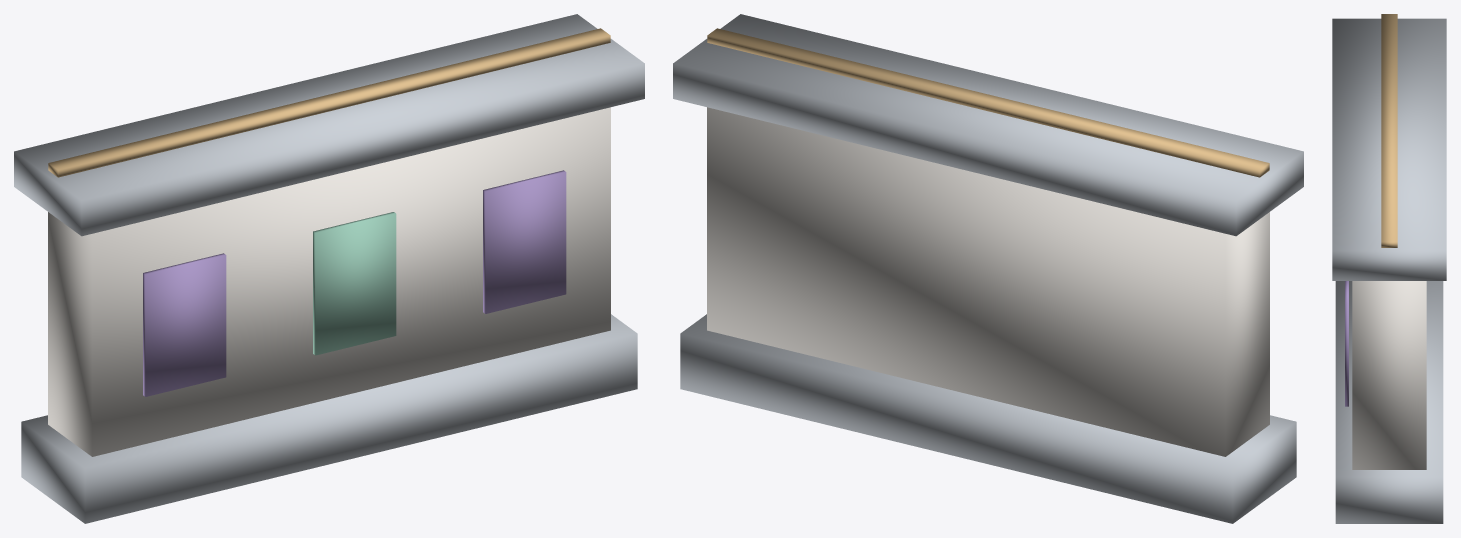
Rendered from arc_wall_straight.glb.
The picture shows the model from 3 angles, left to right: view 1: azimuth 30°, elevation 25°; view 2: azimuth 150°, elevation 25°; view 3: azimuth 270°, elevation 25°; orthographic projection. The views are drawn at different scales.
Visible parts, largest first — view 1: ARC_wall_straight_body, ARC_wall_straight_cap, ARC_wall_straight_base, ARC_wall_straight_panel_0.8, ARC_wall_straight_panel_-0.8, ARC_wall_straight_panel_0, ARC_wall_straight_gold_crest; view 2: ARC_wall_straight_body, ARC_wall_straight_cap, ARC_wall_straight_base, ARC_wall_straight_gold_crest; view 3: ARC_wall_straight_cap, ARC_wall_straight_body, ARC_wall_straight_base, ARC_wall_straight_gold_crest, ARC_wall_straight_panel_0.8.
Part boxes in pixels (x1,y1,x2,y2): ARC_wall_straight_body: [48, 107, 610, 456]; ARC_wall_straight_cap: [14, 14, 644, 236]; ARC_wall_straight_base: [21, 314, 637, 523]; ARC_wall_straight_panel_0.8: [483, 170, 566, 313]; ARC_wall_straight_panel_-0.8: [143, 253, 226, 396]; ARC_wall_straight_panel_0: [313, 212, 396, 355]; ARC_wall_straight_gold_crest: [48, 28, 610, 177]; ARC_wall_straight_body: [707, 107, 1269, 456]; ARC_wall_straight_cap: [673, 14, 1303, 236]; ARC_wall_straight_base: [680, 314, 1296, 523]; ARC_wall_straight_gold_crest: [707, 28, 1269, 177]; ARC_wall_straight_cap: [1332, 18, 1446, 280]; ARC_wall_straight_body: [1352, 281, 1426, 469]; ARC_wall_straight_base: [1335, 281, 1443, 523]; ARC_wall_straight_gold_crest: [1381, 14, 1397, 247]; ARC_wall_straight_panel_0.8: [1345, 281, 1348, 406].
Bounding box in the file's own units: 2.65 × 1.5 × 0.55.
